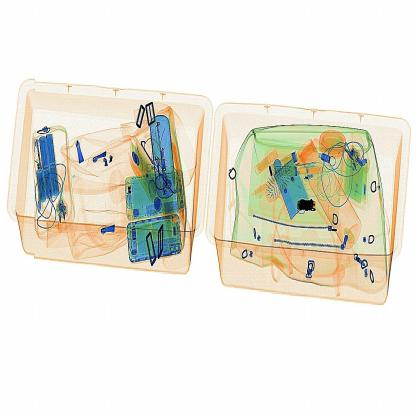scissors: (294, 191, 320, 216)
